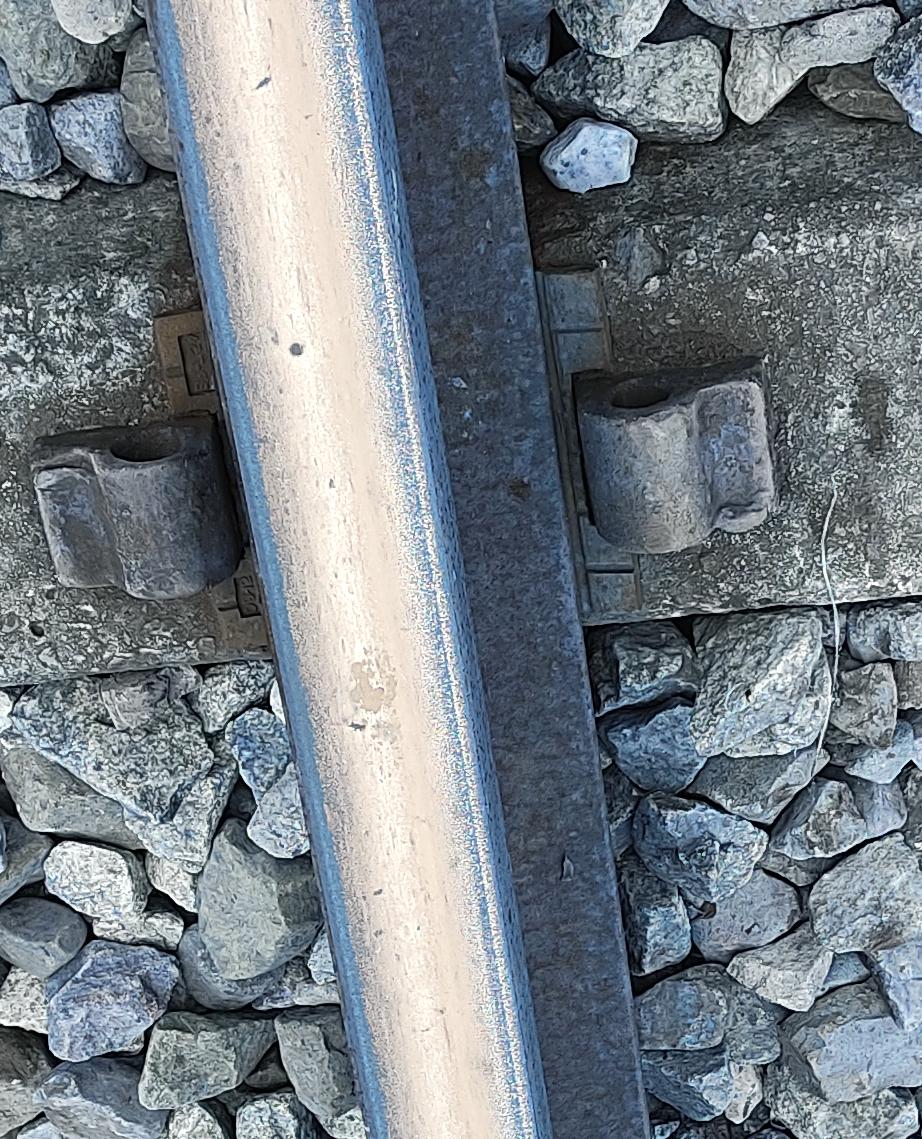loss: (583, 324, 812, 567), (51, 387, 237, 647)
